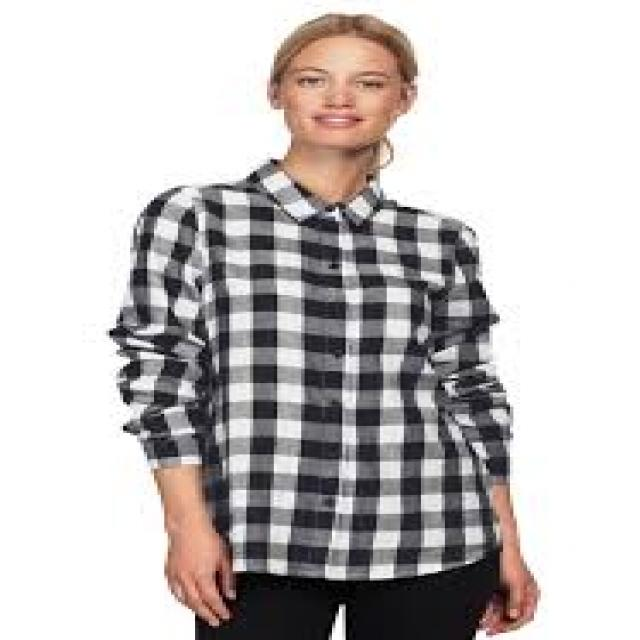plaid: (112, 157, 523, 578)
